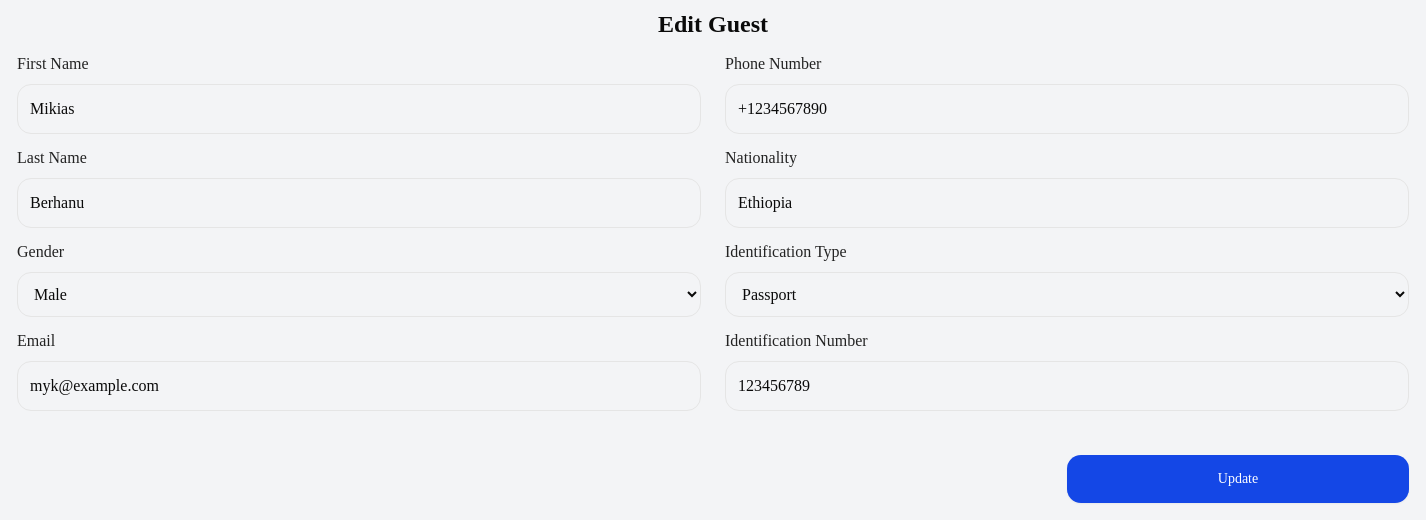
Scenario: EditGuest Component › validates required fields on submit
This screenshot has width=1426, height=520.
Clear the field labelled "First Name": (359, 109) x1=17 y1=84 x2=701 y2=134
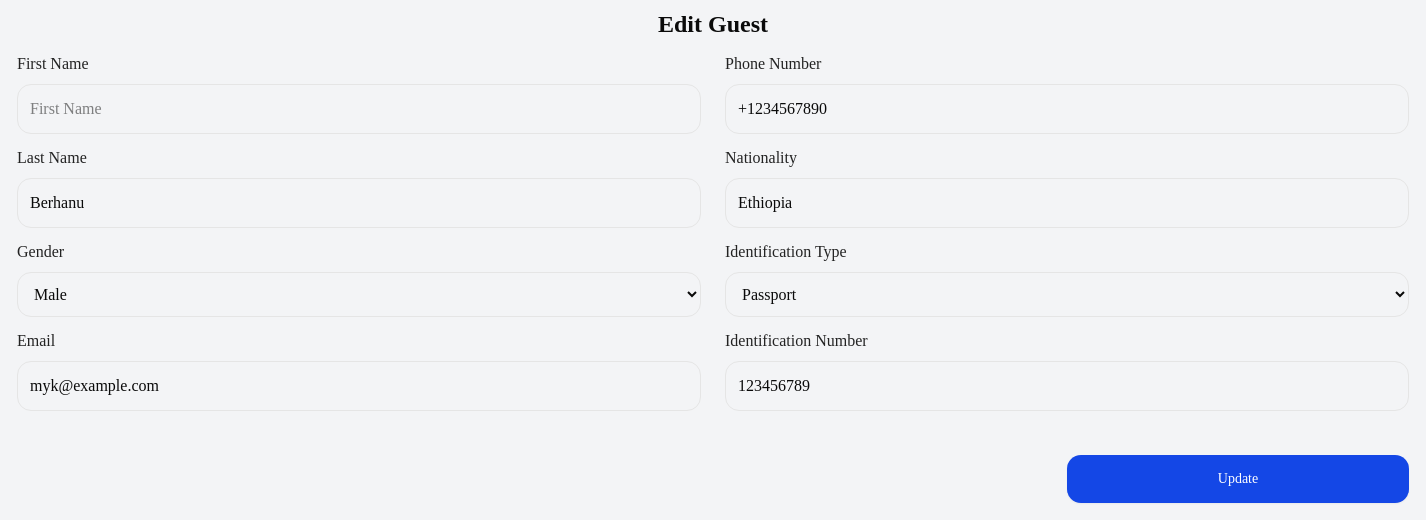
Click the button "Update": (1238, 479) x1=1067 y1=455 x2=1409 y2=503
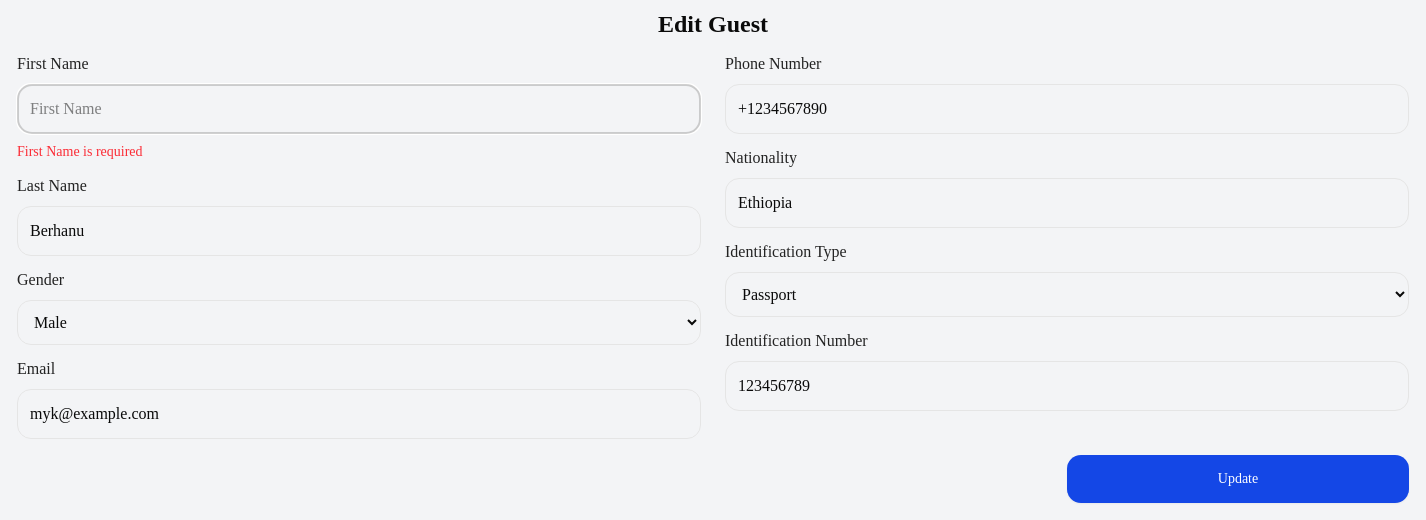
Result: the text "First Name is required" is shown at x1=17 y1=142 x2=143 y2=162
